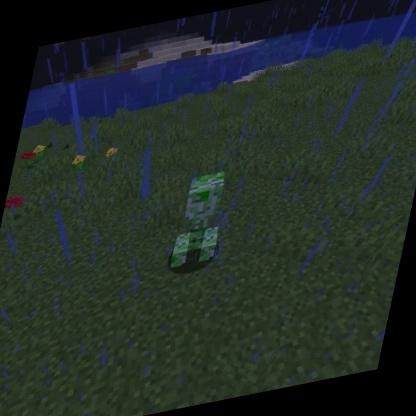creeper: (163, 166, 238, 274)
